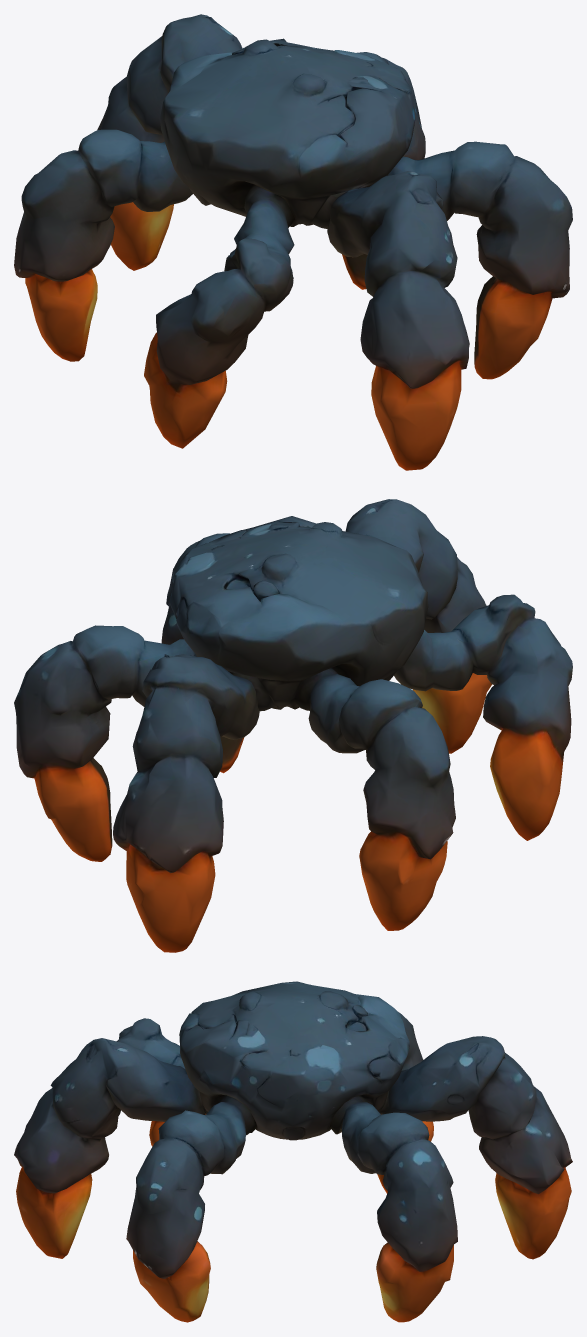
Rendered from legs.glb.
3 views of the same model, one above another, from view 1: azimuth 30°, elevation 25°; view 2: azimuth 150°, elevation 25°; view 3: azimuth 270°, elevation 25° (orthographic). The views are drawn at different scales.
Parts seen in each view (by area): view 1: tripo_node_e6fc5b05-3bd6-47b3-b9e3-fb81e62c13ab; view 2: tripo_node_e6fc5b05-3bd6-47b3-b9e3-fb81e62c13ab; view 3: tripo_node_e6fc5b05-3bd6-47b3-b9e3-fb81e62c13ab.
Part boxes in pixels (x1,y1,x2,y2): tripo_node_e6fc5b05-3bd6-47b3-b9e3-fb81e62c13ab: (14,14,572,470); tripo_node_e6fc5b05-3bd6-47b3-b9e3-fb81e62c13ab: (14,499,572,952); tripo_node_e6fc5b05-3bd6-47b3-b9e3-fb81e62c13ab: (14,981,572,1322).
Bounding box in the file's own units: 0.7419 × 0.528 × 1.
Materials: 1 (1 with a texture image).
